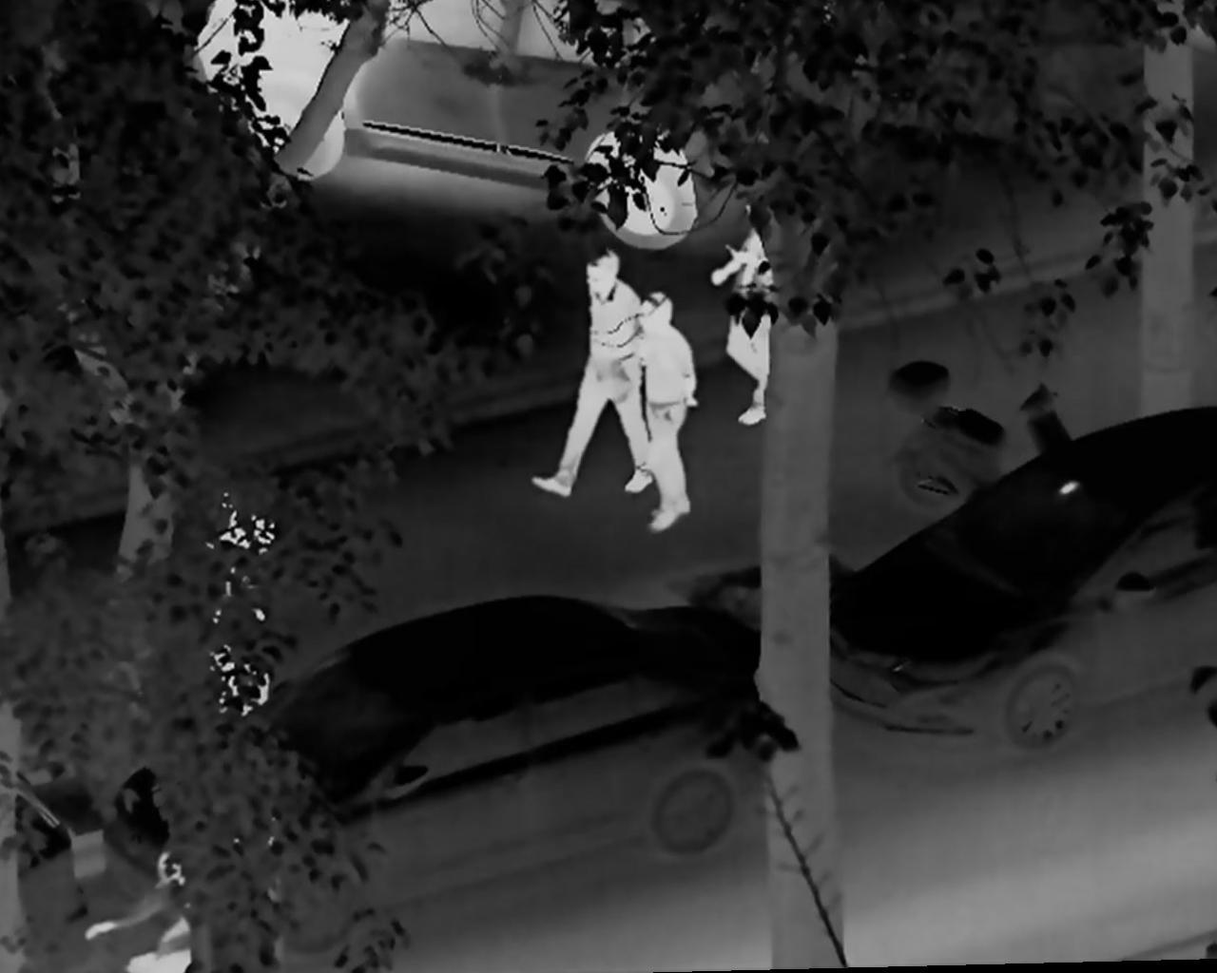person: (533, 250, 654, 503), (83, 823, 223, 973), (705, 198, 789, 427), (200, 487, 278, 724), (629, 291, 694, 534)
